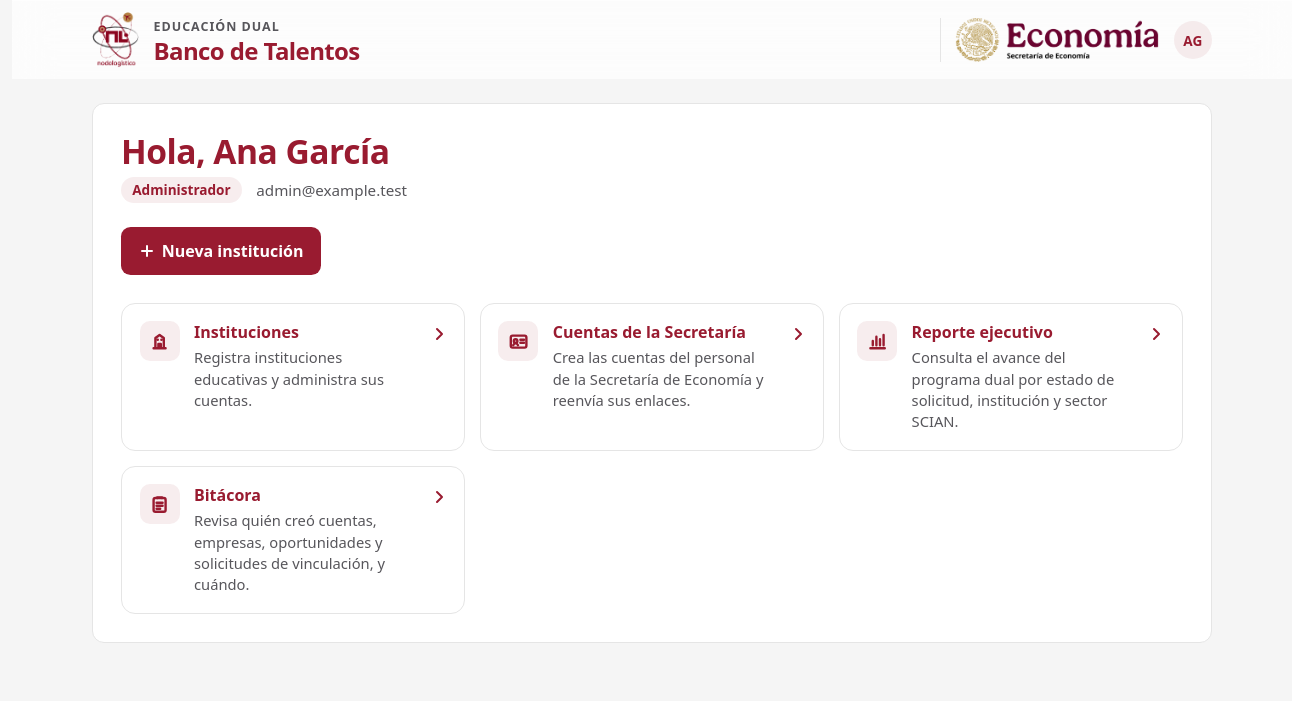
acceso administrativo a instituciones › ofrece al ADMIN la navegación desde su sesión al listado
The width and height of the screenshot is (1292, 701).
Click the link "Instituciones" at coordinates (293, 377), box [121,303,465,451]
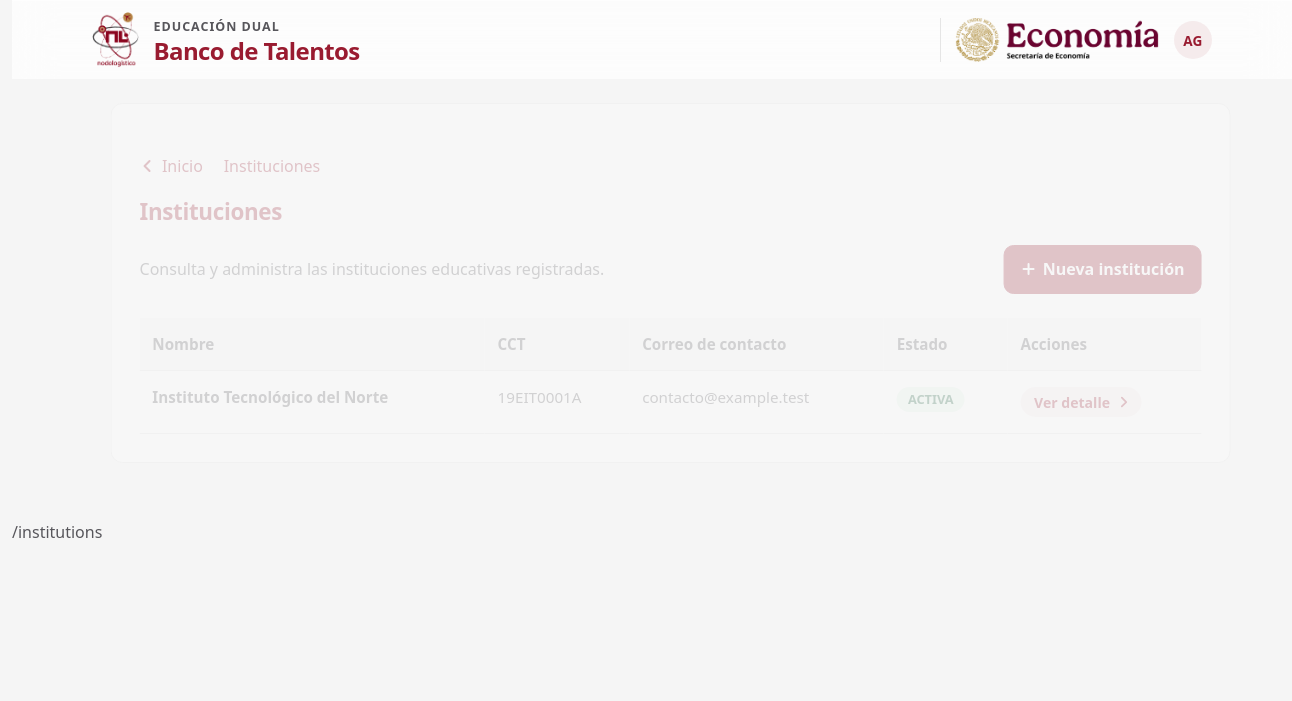
Check: the heading "Instituciones" is shown, box [140,196,282,227]
Check: the column heading "Instituto Tecnológico del Norte" is shown, box [140,371,485,434]
Check: the text named "Ruta actual" reads "/institutions", box [12,521,102,543]
